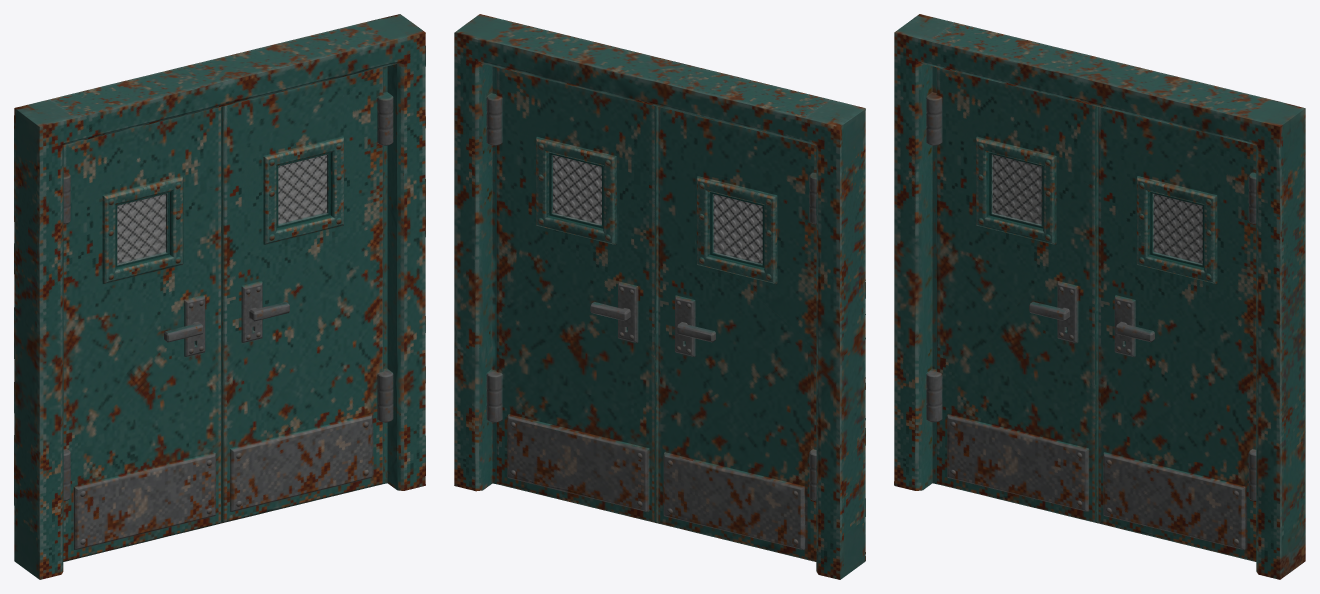
Rendered from Meshy_AI_model.glb.
3 views of the same model, side by side, from view 1: azimuth 30°, elevation 25°; view 2: azimuth 150°, elevation 25°; view 3: azimuth 330°, elevation 25° (orthographic).
Size of the model in its own units: 1.7 by 1.9 by 0.1964.
1 material, 1 textured.
